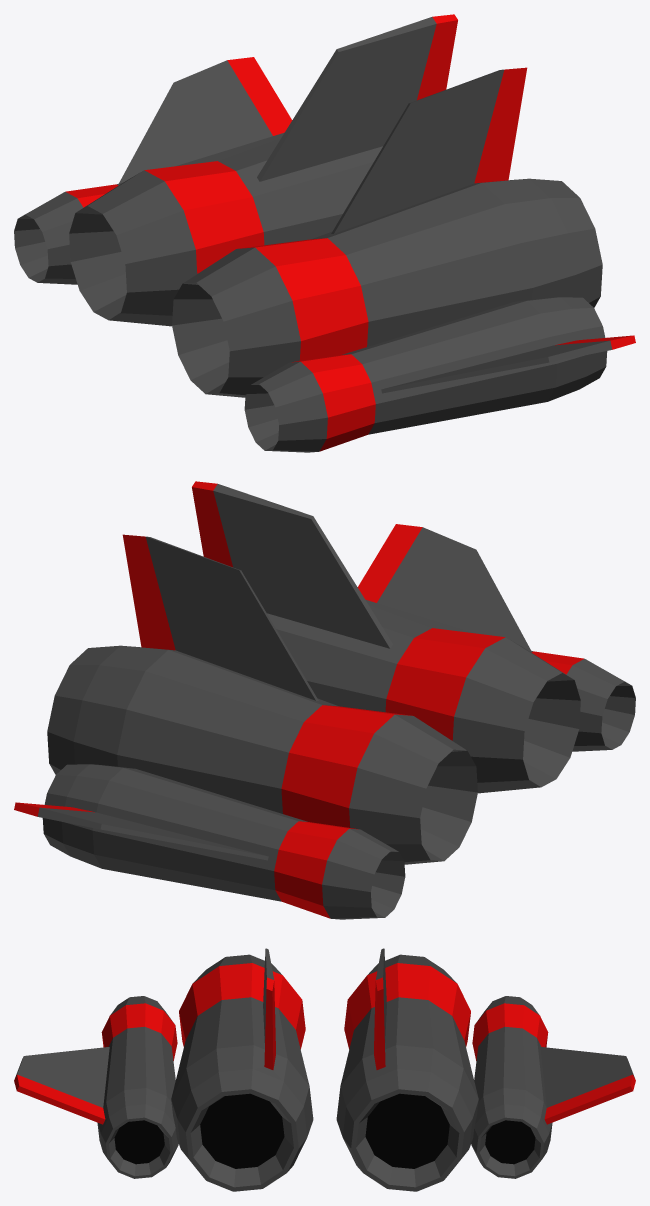
File: jetEngines.fbx
The picture shows the model from 3 angles, top to bottom: view 1: azimuth 30°, elevation 25°; view 2: azimuth 150°, elevation 25°; view 3: azimuth 270°, elevation 25°; orthographic projection. The views are drawn at different scales.
Parts seen in each view (by area): view 1: Cube.002; view 2: Cube.002; view 3: Cube.002.
Boxes of the visible parts, bbox=[...] form: Cube.002: bbox=[14, 14, 635, 452]; Cube.002: bbox=[14, 481, 635, 919]; Cube.002: bbox=[14, 948, 635, 1191].
Size of the model in its own units: 238 by 160 by 432.
